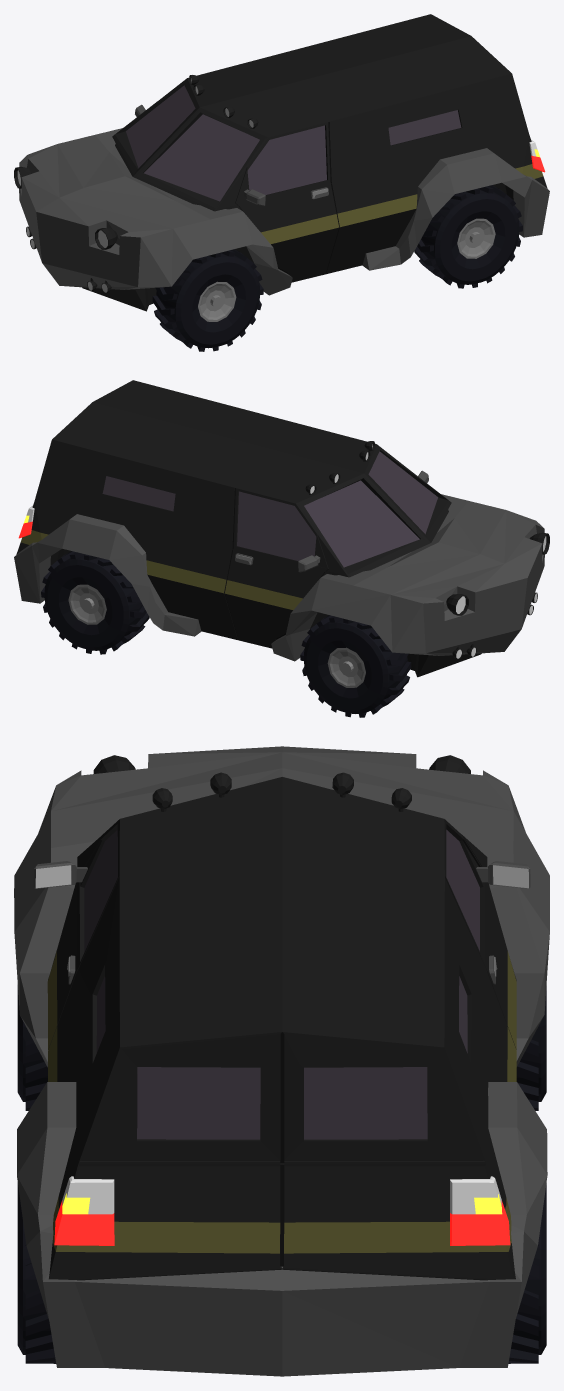
File: Car4.fbx
The picture shows the model from 3 angles, top to bottom: view 1: azimuth 30°, elevation 25°; view 2: azimuth 150°, elevation 25°; view 3: azimuth 270°, elevation 25°; orthographic projection. The views are drawn at different scales.
Visible parts, largest first — view 1: Car4; view 2: Car4; view 3: Car4.
Part boxes in pixels (x1,y1,x2,y2): Car4: (14, 14, 549, 351); Car4: (14, 380, 549, 717); Car4: (14, 746, 549, 1376).
Bounding box in the file's own units: 463 × 184 × 232.
